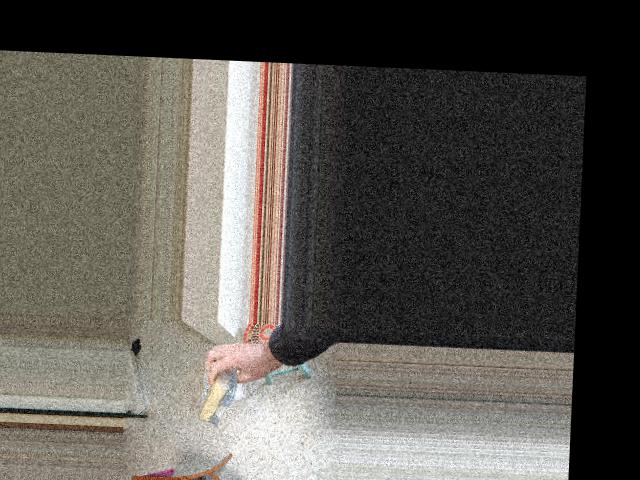cheese: (198, 342, 242, 431)
